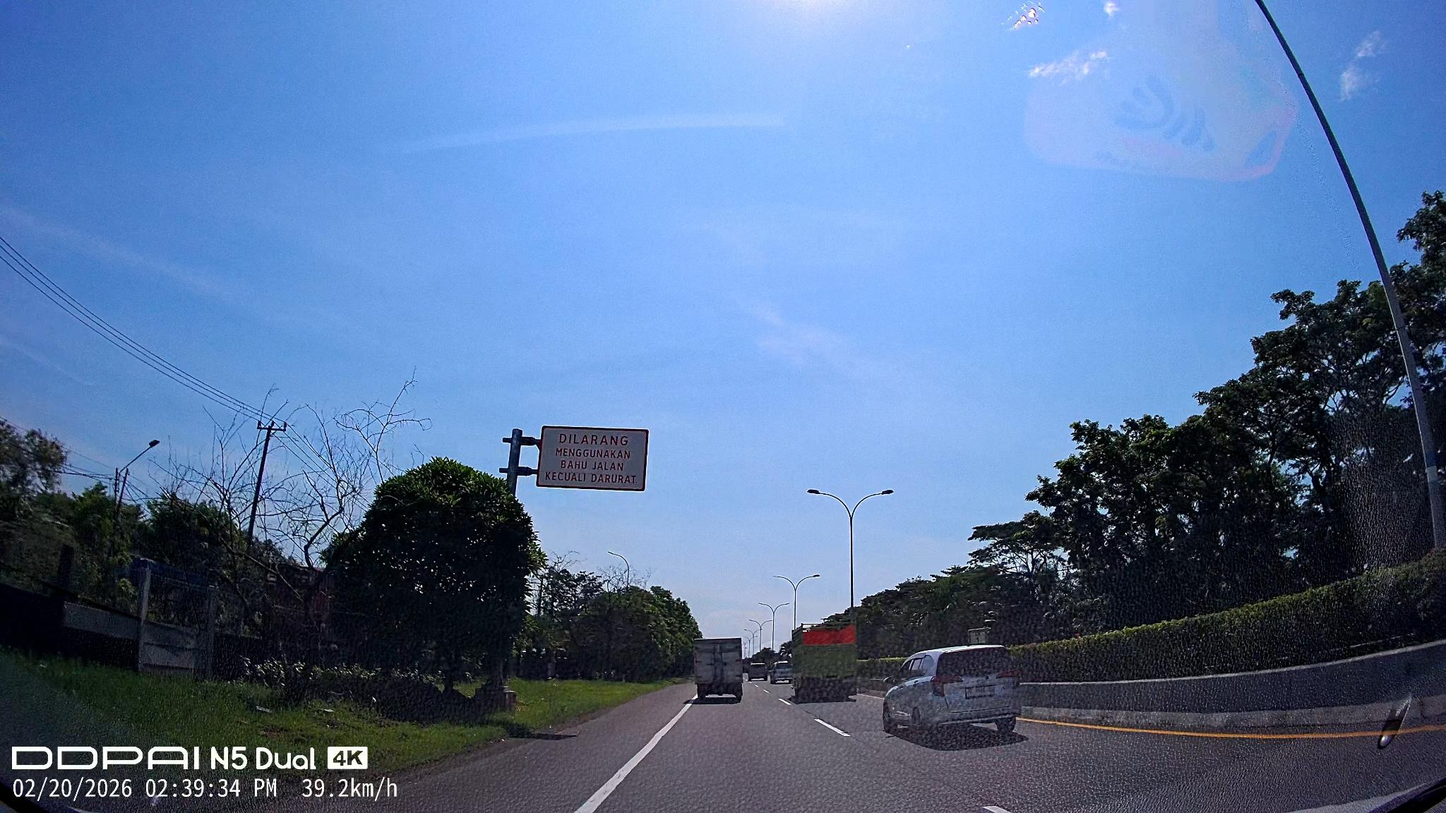rambu_teks: (535, 426, 650, 493)
